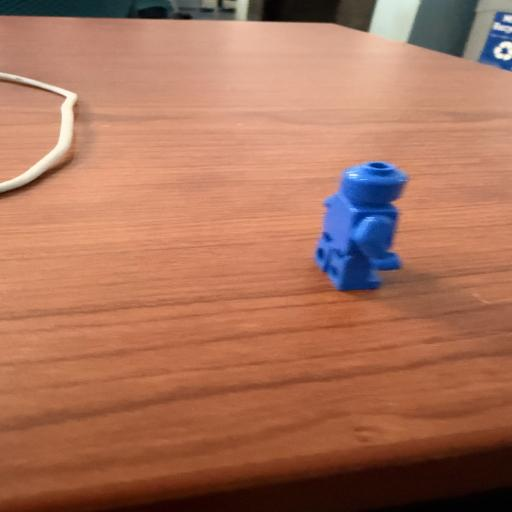blue_minifig: (312, 161, 410, 292)
